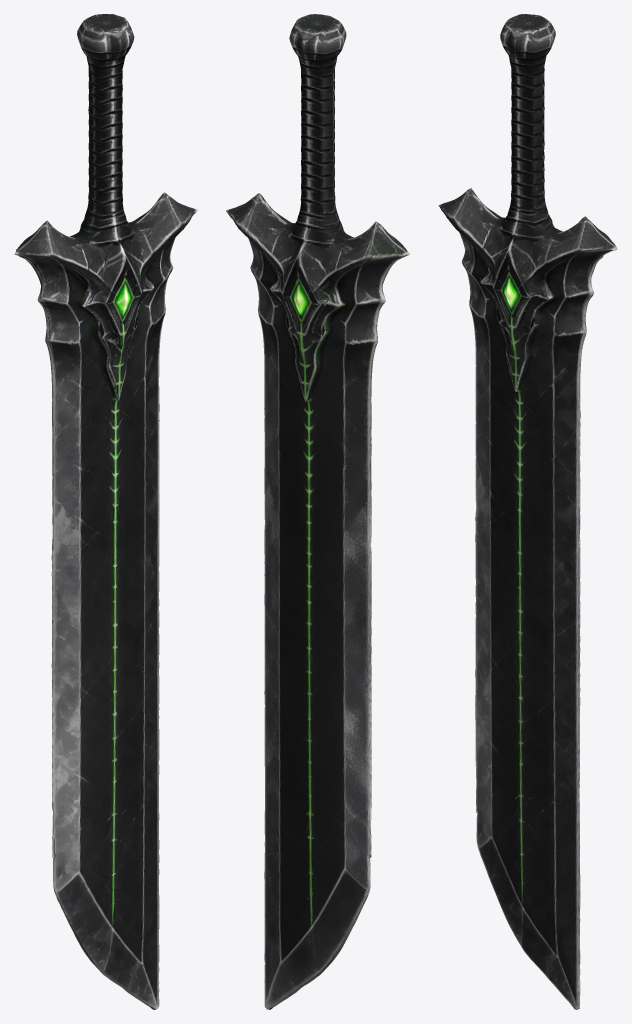
3 renders of one model, left to right at view 1: azimuth 30°, elevation 25°; view 2: azimuth 150°, elevation 25°; view 3: azimuth 330°, elevation 25°, orthographic. The views are drawn at different scales.
Parts seen in each view (by area): view 1: Mesh_0; view 2: Mesh_0; view 3: Mesh_0.
Boxes of the visible parts, <box> form: Mesh_0: <box>14,14,197,1009</box>; Mesh_0: <box>226,14,409,1009</box>; Mesh_0: <box>438,14,617,1009</box>.
Size of the model in its own units: 0.3625 by 1.89 by 0.1471.
Materials: 1 (1 with a texture image).
